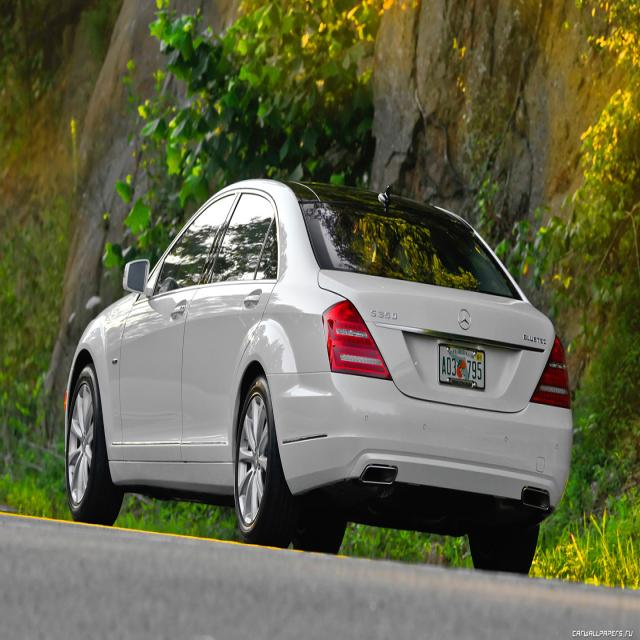car: (48, 168, 582, 589)
